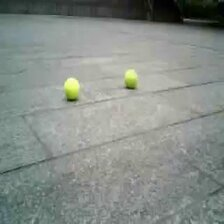tennis: (63, 78, 80, 99), (122, 69, 139, 87)
